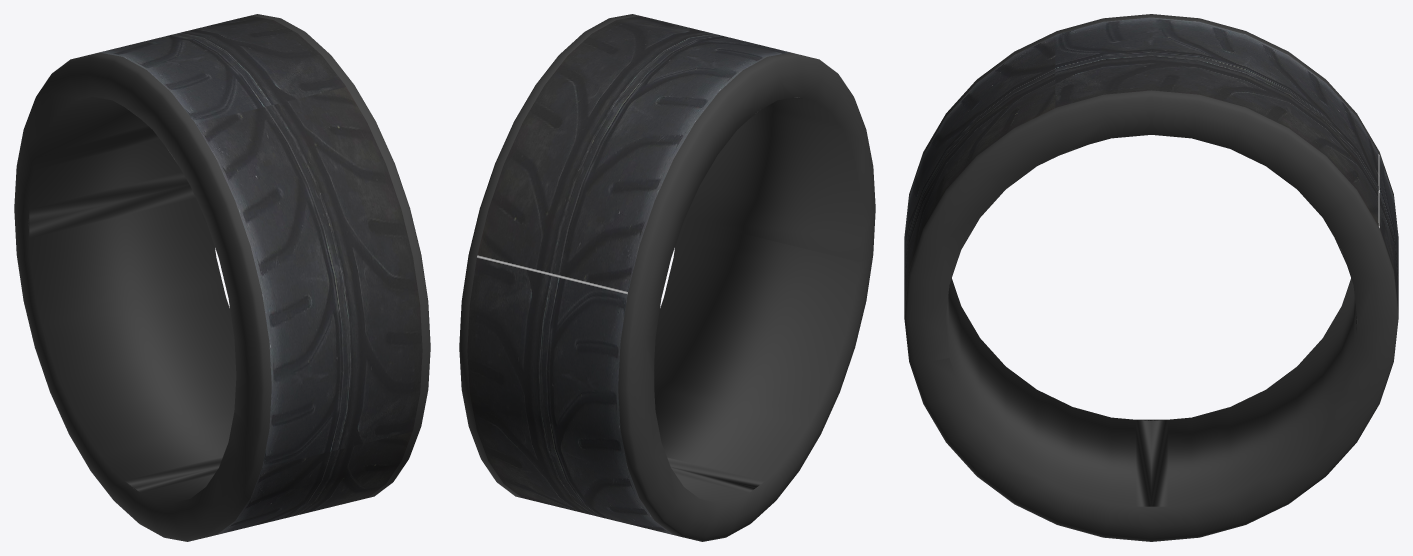
File: wheel_tread.dae
The picture shows the model from 3 angles, left to right: view 1: azimuth 30°, elevation 25°; view 2: azimuth 150°, elevation 25°; view 3: azimuth 270°, elevation 25°; orthographic projection.
Visible parts, largest first — view 1: Cylinder; view 2: Cylinder; view 3: Cylinder.
Part boxes in pixels (x1,y1,x2,y2): Cylinder: (14, 14, 430, 541); Cylinder: (459, 14, 875, 541); Cylinder: (904, 14, 1398, 541).
Size of the model in its own units: 0.025 by 0.06 by 0.06.
Materials: 2 (1 with a texture image).
